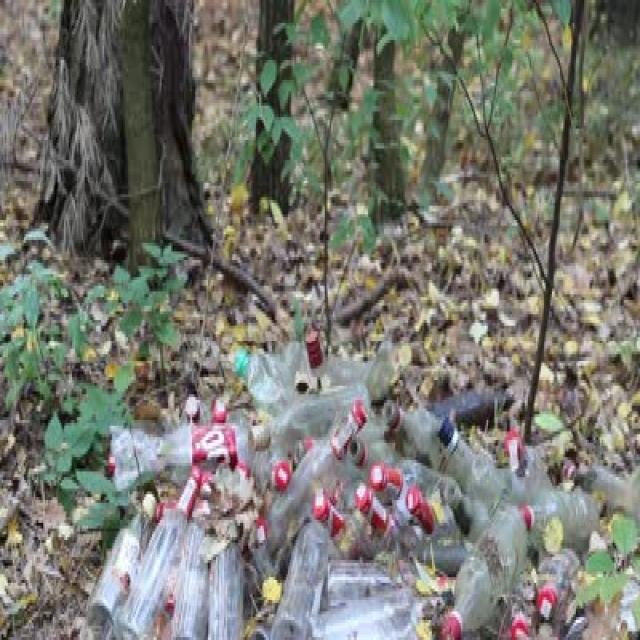garbage: (64, 314, 612, 640)
